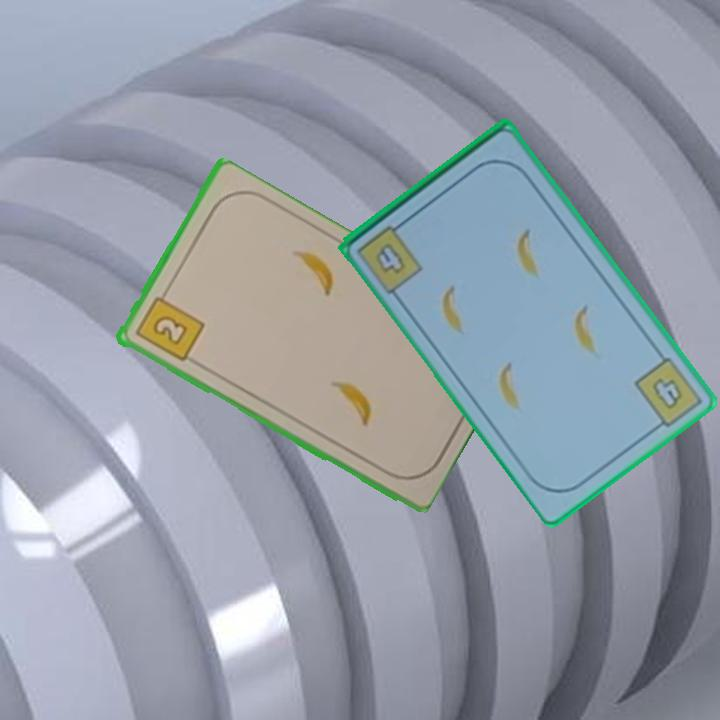2b: (131, 286, 207, 365)
4b: (630, 353, 705, 434), (372, 239, 410, 278)
